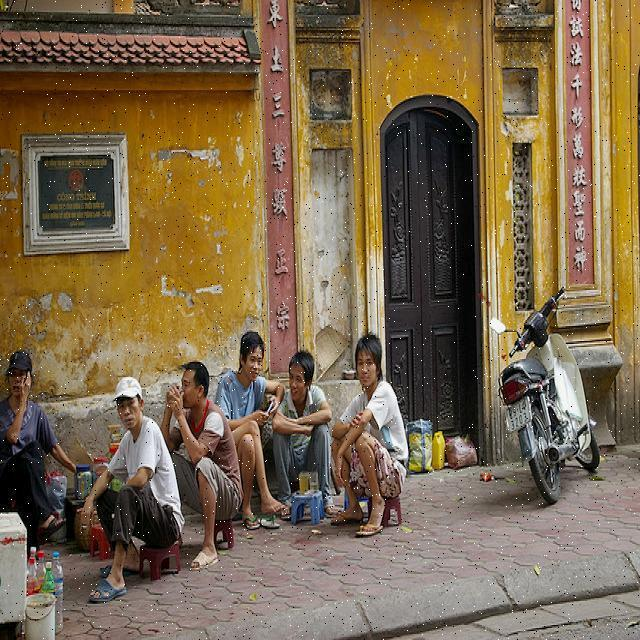motorcycle: (491, 278, 604, 509)
